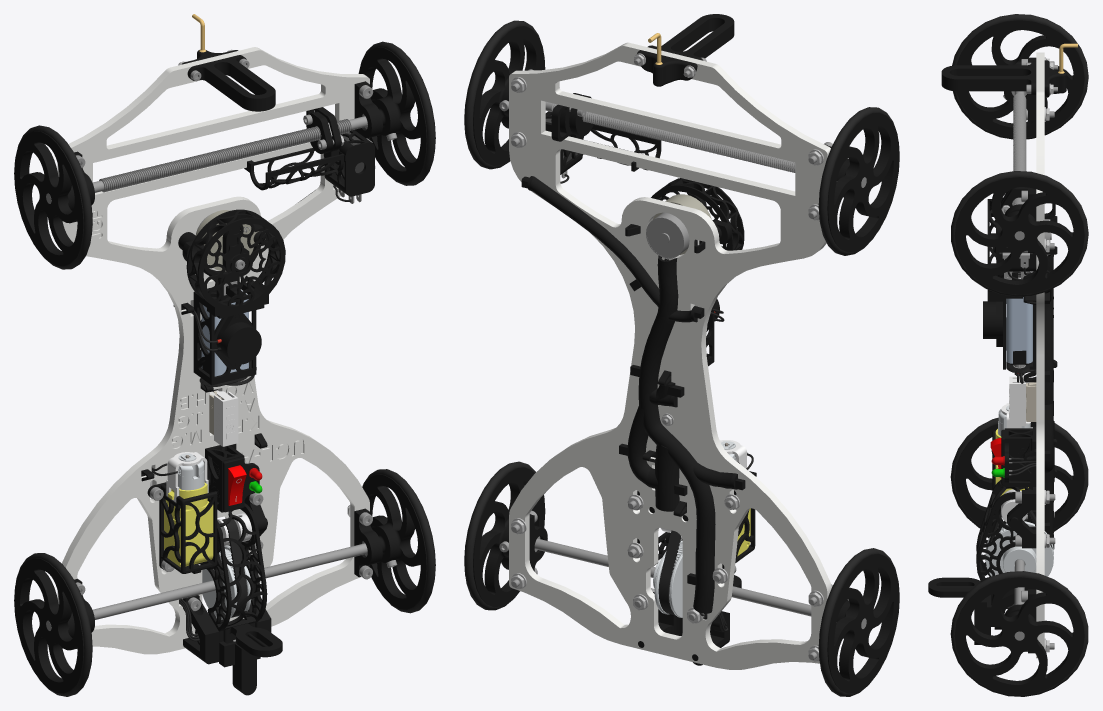
File: IMechE-Design-Challenge-Full-Assembly.glb
The picture shows the model from 3 angles, left to right: view 1: azimuth 30°, elevation 25°; view 2: azimuth 150°, elevation 25°; view 3: azimuth 270°, elevation 25°; orthographic projection. The views are drawn at different scales.
Visible parts, largest first — view 1: MECH_14_BaseBoard - 360mmx200mmx5mm v110:1, MECH_35_Wheels (Right) v12:1 (×2), MECH_34_Wheels (Left) v1:1 (×2), MECH_39_Timer Cover v3:1, MECH_23_Pulley Case v14:1, MECH_08_Rear Axle Threaded (M8) (inc.CNC) v11:1, MECH_15_Rear Components Case v29:1, MECH_29_Plunger and Scope Mount v5:1, MECH_27_O-ring v1:1 (×2), MECH_27_O-ring v1:2 (×2), MECH_24_Motor Case v10:1, MECH_21_Stop Switch Casing Lid v7:1 (+17 smaller); view 2: MECH_14_BaseBoard - 360mmx200mmx5mm v110:1, MECH_35_Wheels (Right) v12:1 (×2), MECH_34_Wheels (Left) v1:1 (×2), MECH_42_Wire Tube v2:1, MECH_42_Wire Tube v2:2, MECH_27_O-ring v1:1 (×2), MECH_27_O-ring v1:2 (×2), MECH_08_Rear Axle Threaded (M8) (inc.CNC) v11:1, MECH_31_Rear Scope v6:1, MECH_39_Timer Cover v3:1, MECH_07_Front Axle (D6mm) v4:1, Component5:1 (+7 smaller); view 3: MECH_34_Wheels (Left) v1:1 (×2), MECH_35_Wheels (Right) v12:1 (×2), MECH_14_BaseBoard - 360mmx200mmx5mm v110:1, MECH_27_O-ring v1:2 (×2), MECH_27_O-ring v1:1 (×2), MECH_42_Wire Tube v2:1, MECH_31_Rear Scope v6:1, MECH_23_Pulley Case v14:1, ELEC_01_9V battery v2:1, Pulley part01 GT2 6mm:1, MECH_36_SPST switch and LED mount v6:1, MECH_08_Rear Axle Threaded (M8) (inc.CNC) v11:1 (+16 smaller).
Part boxes in pixels (<box>): MECH_14_BaseBoard - 360mmx200mmx5mm v110:1: <box>57,47,369,654</box>; MECH_35_Wheels (Right) v12:1 (×2): <box>14,131,92,693</box>; MECH_34_Wheels (Left) v1:1 (×2): <box>358,47,435,609</box>; MECH_39_Timer Cover v3:1: <box>186,209,285,318</box>; MECH_23_Pulley Case v14:1: <box>200,502,267,631</box>; MECH_08_Rear Axle Threaded (M8) (inc.CNC) v11:1: <box>46,116,367,203</box>; MECH_15_Rear Components Case v29:1: <box>178,224,267,385</box>; MECH_29_Plunger and Scope Mount v5:1: <box>183,595,282,664</box>; MECH_27_O-ring v1:1 (×2): <box>16,41,435,696</box>; MECH_27_O-ring v1:2 (×2): <box>15,125,435,613</box>; MECH_24_Motor Case v10:1: <box>147,482,217,573</box>; MECH_21_Stop Switch Casing Lid v7:1: <box>244,144,374,195</box>; MECH_14_BaseBoard - 360mmx200mmx5mm v110:1: <box>509,42,831,669</box>; MECH_35_Wheels (Right) v12:1 (×2): <box>818,112,899,693</box>; MECH_34_Wheels (Left) v1:1 (×2): <box>464,26,545,607</box>; MECH_42_Wire Tube v2:1: <box>522,176,755,613</box>; MECH_42_Wire Tube v2:2: <box>521,176,756,612</box>; MECH_27_O-ring v1:1 (×2): <box>464,20,898,696</box>; MECH_27_O-ring v1:2 (×2): <box>464,107,897,610</box>; MECH_08_Rear Axle Threaded (M8) (inc.CNC) v11:1: <box>545,101,866,187</box>; MECH_31_Rear Scope v6:1: <box>648,14,734,60</box>; MECH_39_Timer Cover v3:1: <box>651,178,744,250</box>; MECH_07_Front Axle (D6mm) v4:1: <box>534,538,866,628</box>; Component5:1: <box>646,212,689,259</box>; MECH_34_Wheels (Left) v1:1 (×2): <box>954,176,1084,694</box>; MECH_35_Wheels (Right) v12:1 (×2): <box>954,19,1084,532</box>; MECH_14_BaseBoard - 360mmx200mmx5mm v110:1: <box>1036,52,1044,658</box>; MECH_27_O-ring v1:2 (×2): <box>950,14,1088,696</box>; MECH_27_O-ring v1:1 (×2): <box>950,171,1088,532</box>; MECH_42_Wire Tube v2:1: <box>1023,254,1054,549</box>; MECH_31_Rear Scope v6:1: <box>941,61,1036,95</box>; MECH_23_Pulley Case v14:1: <box>976,480,1036,594</box>; ELEC_01_9V battery v2:1: <box>1006,280,1032,367</box>; Pulley part01 GT2 6mm:1: <box>985,521,1053,576</box>; MECH_36_SPST switch and LED mount v6:1: <box>1004,428,1057,486</box>; MECH_08_Rear Axle Threaded (M8) (inc.CNC) v11:1: <box>1013,91,1026,240</box>.
Size of the model in its own units: 0.2288 by 0.3975 by 0.0964.
